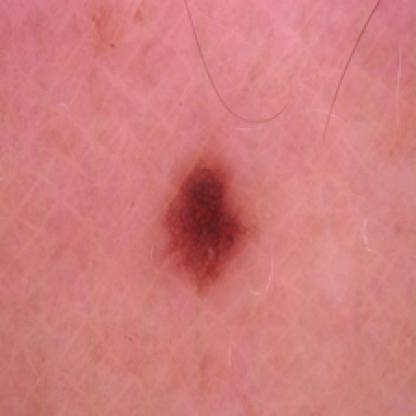benign: (165, 160, 251, 282)
